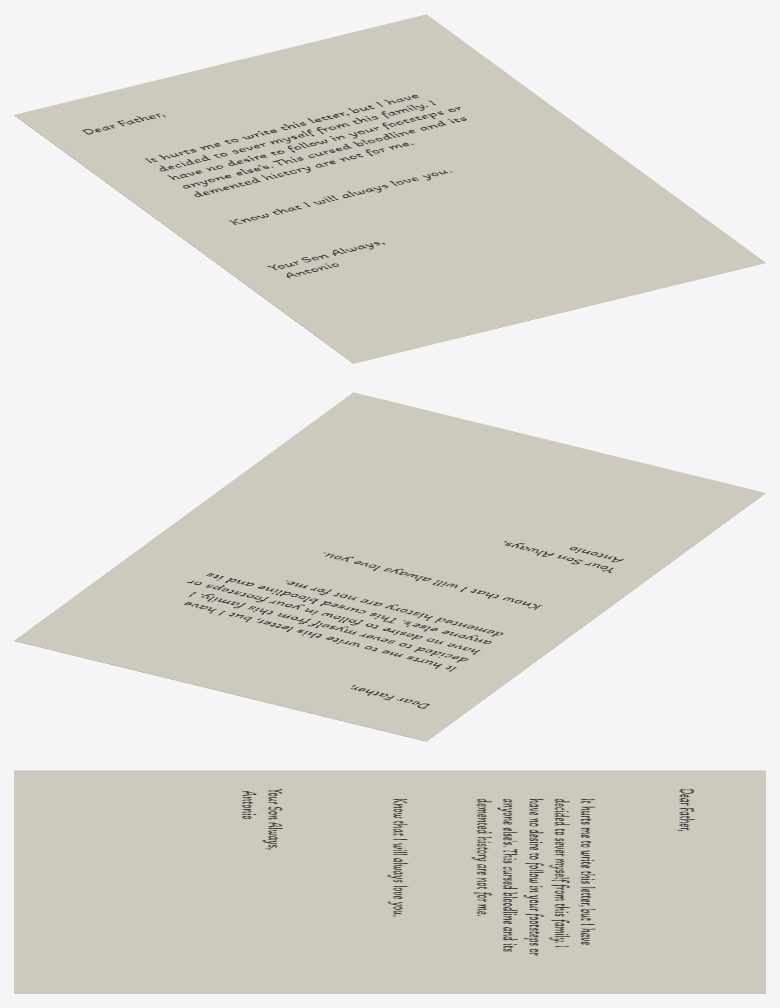
Rendered from To-FatherCenter.fbx.
3 views of the same model, one above another, from view 1: azimuth 30°, elevation 25°; view 2: azimuth 150°, elevation 25°; view 3: azimuth 270°, elevation 25° (orthographic). The views are drawn at different scales.
Parts seen in each view (by area): view 1: Paper; view 2: Paper; view 3: Paper, THickness.
Part boxes in pixels (box(x1,y1,x2,y2)): Paper: box(14, 14, 765, 363); Paper: box(14, 392, 765, 741); Paper: box(14, 770, 765, 993); THickness: box(14, 993, 765, 993).
Bounding box in the file's own units: 51.12 × 0.026 × 72.84.
